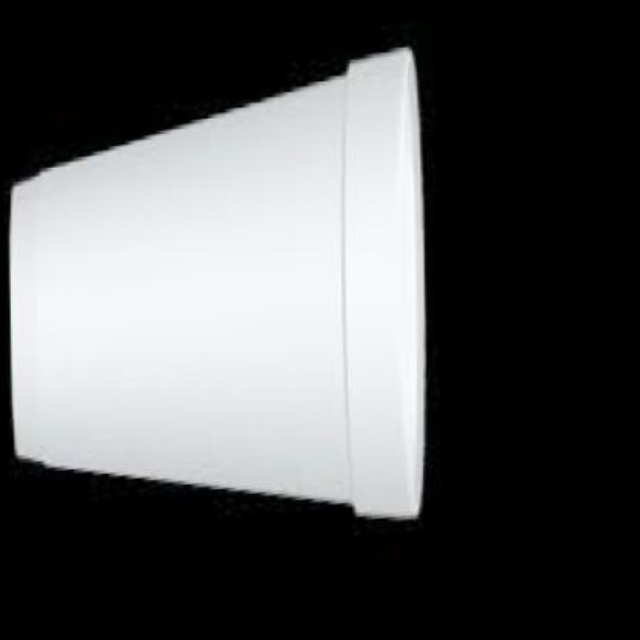trash: (9, 48, 423, 515)
